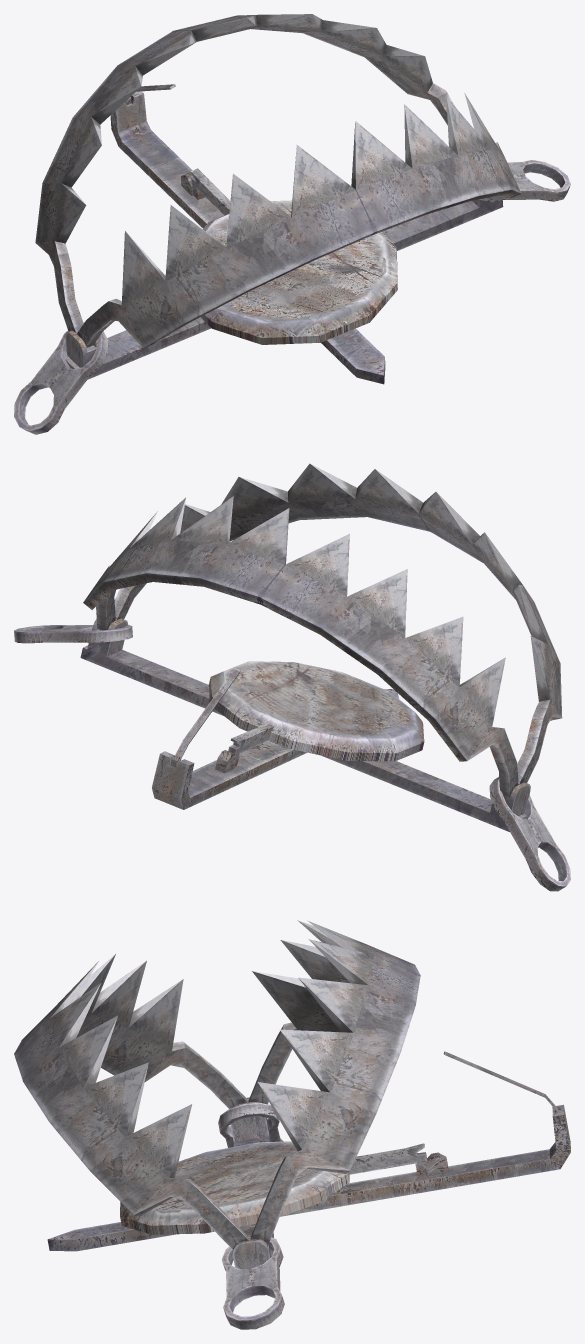
3 renders of one model, top to bottom at view 1: azimuth 30°, elevation 25°; view 2: azimuth 150°, elevation 25°; view 3: azimuth 270°, elevation 25°, orthographic. The views are drawn at different scales.
Visible parts, largest first — view 1: Trap_LeftSide, Trap_RightSide, Trap_Center, Trap_Cross, Trap_1, Trap_4; view 2: Trap_RightSide, Trap_LeftSide, Trap_Center, Trap_Cross, Trap_1, Trap_3, Trap_4; view 3: Trap_LeftSide, Trap_RightSide, Trap_Cross, Trap_Center, Trap_1, Trap_4, Trap_3.
Boxes of the visible parts, box(x1,y1,x2,y2) form: Trap_LeftSide: box(77, 93, 521, 347); Trap_RightSide: box(35, 14, 455, 333); Trap_Center: box(201, 200, 397, 344); Trap_Cross: box(65, 91, 503, 384); Trap_1: box(14, 160, 570, 434); Trap_4: box(191, 168, 230, 215); Trap_RightSide: box(83, 496, 518, 797); Trap_LeftSide: box(114, 463, 562, 784); Trap_Center: box(208, 661, 424, 761); Trap_Cross: box(80, 618, 530, 831); Trap_1: box(14, 624, 570, 891); Trap_3: box(175, 668, 240, 764); Trap_4: box(228, 723, 274, 766); Trap_LeftSide: box(14, 954, 250, 1249); Trap_RightSide: box(248, 920, 420, 1245); Trap_Cross: box(47, 1097, 570, 1268); Trap_Center: box(120, 1141, 349, 1234); Trap_1: box(218, 1102, 284, 1329); Trap_4: box(349, 1143, 427, 1177); Trap_3: box(443, 1051, 559, 1112).
Bounding box in the file's own units: 142 × 83.59 × 117.
1 material, 1 textured.
